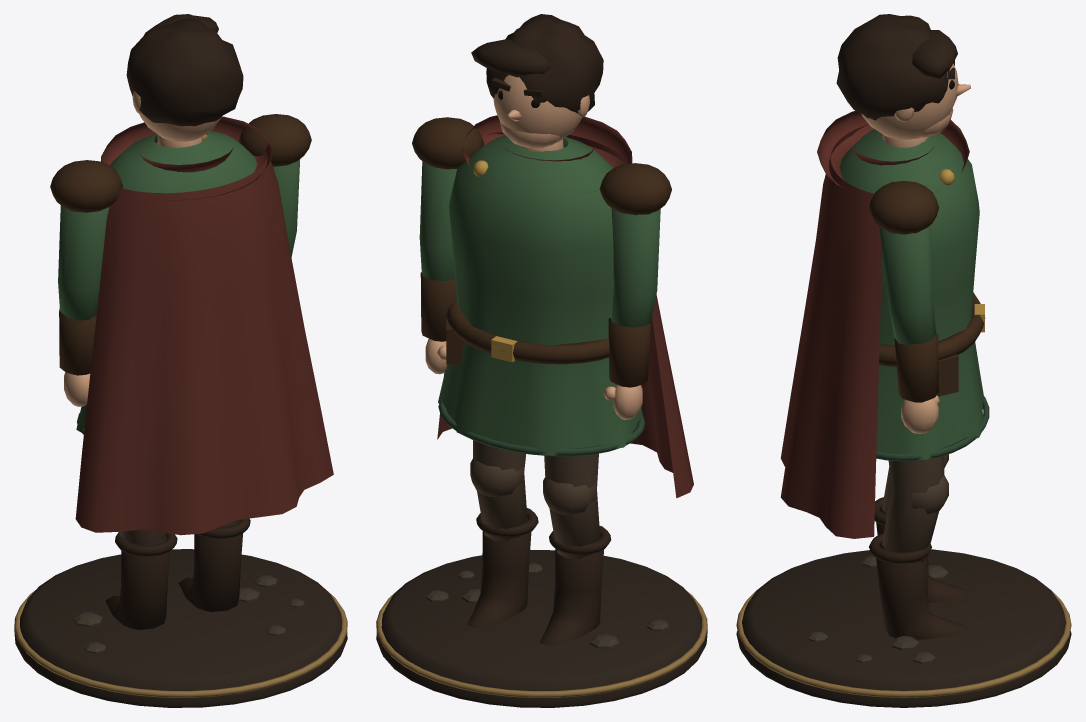
File: hero.glb
The picture shows the model from 3 angles, left to right: view 1: azimuth 30°, elevation 25°; view 2: azimuth 150°, elevation 25°; view 3: azimuth 270°, elevation 25°; orthographic projection.
Visible parts, largest first — view 1: Cloak, Base, Body, arm_mesh_l, arm_mesh_r; view 2: Body, Base, arm_mesh_l, arm_mesh_r, Cloak; view 3: Body, Base, Cloak, arm_mesh_r.
Part boxes in pixels (x1=…): Cloak: x1=75, y1=116, x2=333, y2=535; Base: x1=14, y1=549, x2=347, y2=707; Body: x1=76, y1=14, x2=256, y2=629; arm_mesh_l: x1=50, y1=160, x2=122, y2=406; arm_mesh_r: x1=239, y1=114, x2=311, y2=257; Body: x1=438, y1=14, x2=645, y2=646; Base: x1=376, y1=550, x2=707, y2=707; arm_mesh_l: x1=599, y1=163, x2=671, y2=419; arm_mesh_r: x1=412, y1=117, x2=484, y2=374; Cloak: x1=437, y1=115, x2=693, y2=498; Body: x1=836, y1=14, x2=989, y2=639; Base: x1=736, y1=549, x2=1071, y2=707; Cloak: x1=780, y1=111, x2=969, y2=538; arm_mesh_r: x1=868, y1=181, x2=939, y2=433.
Size of the model in its own units: 0.95 by 1.93 by 0.95.
